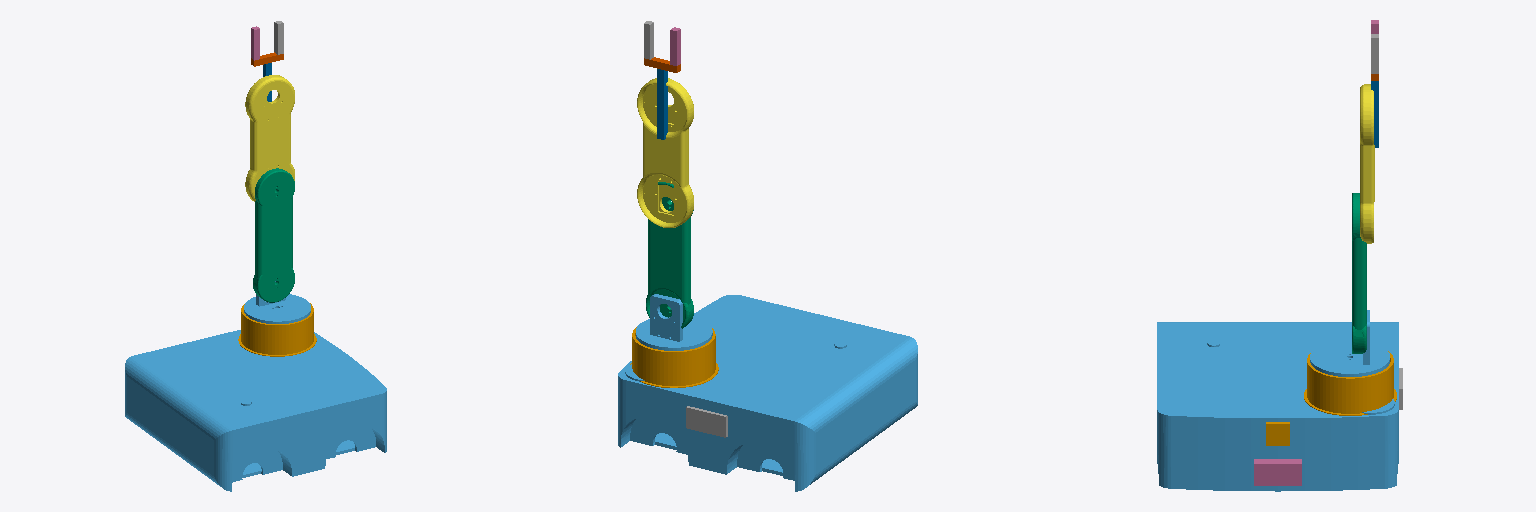
The robot description file, URDF, robot "hexbot":
<?xml version="1.0" encoding="utf-8"?>
<!-- =================================================================================== -->
<!-- |    This document was autogenerated by xacro from bot_urdf.xacro                 | -->
<!-- |    EDITING THIS FILE BY HAND IS NOT RECOMMENDED                                 | -->
<!-- =================================================================================== -->
<robot name="hexbot">
<!-- _________________________________gazebo________________________________ -->
  <gazebo>
  <plugin name="gazebo_ros_control" filename="libgazebo_ros_control.so">
  </plugin>
</gazebo>
  
  <gazebo reference="fwl_joint">
    <mu1 value="10000.0"/>
    <mu2 value="10000.0"/>
    <kp value="100000.0"/>
    <kd value="0.00001"/>
    <maxVel value="1.0"/>
    <minDepth value="0.0001"/>
  </gazebo>
  <gazebo reference="fwr_joint">
    <mu1 value="10000.0"/>
    <mu2 value="10000.0"/>
    <kp value="100000.0"/>
    <kd value="0.00001"/>
    <maxVel value="1.0"/>
    <minDepth value="0.0001"/>
  </gazebo>
  <gazebo reference="bwl_joint">
    <mu1 value="10000.0"/>
    <mu2 value="10000.0"/>
    <kp value="100000.0"/>
    <kd value="0.00001"/>
    <maxVel value="1.0"/>
    <minDepth value="0.0001"/>
  </gazebo>
  <gazebo reference="bwr_joint">
    <mu1 value="10000.0"/>
    <mu2 value="10000.0"/>
    <kp value="100000.0"/>
    <kd value="0.00001"/>
    <maxVel value="1.0"/>
    <minDepth value="0.0001"/>
  </gazebo>

  <gazebo>
    <plugin filename="libgazebo_ros_planar_move.so" name="object_controller">
      <commandTopic>cmd_vel</commandTopic>
      <odometryTopic>odom</odometryTopic>
      <odometryFrame>odom</odometryFrame>
      <odometryRate>20.0</odometryRate>
      <robotBaseFrame>base_footprint</robotBaseFrame>
    </plugin>
  </gazebo>

  <gazebo reference="camera_sensor">
    <sensor name="camera1" type="camera">
      <update_rate>100</update_rate>
      <camera name="head">
        <horizontal_fov>1.3962634</horizontal_fov>
        <image>
          <width>800</width>
          <height>800</height>
          <format>R8G8B8</format>
        </image>
        <clip>
          <near>0.02</near>
          <far>300</far>
        </clip>
        <noise>
          <type>gaussian</type>
          <!-- Noise is sampled independently per pixel on each frame.
               That pixel's noise value is added to each of its color
               channels, which at that point lie in the range [0,1]. -->
          <mean>0.0</mean>
          <stddev>0.007</stddev>
        </noise>
      </camera>
      <plugin filename="libgazebo_ros_camera.so" name="camera_controller">
        <alwaysOn>true</alwaysOn>
        <updateRate>0.0</updateRate>
        <cameraName>hexbot/camera1</cameraName>
        <imageTopicName>image_raw</imageTopicName>
        <cameraInfoTopicName>camera_info</cameraInfoTopicName>
        <frameName>camera_sensor</frameName>
        <hackBaseline>0.07</hackBaseline>
        <distortionK1>0.0</distortionK1>
        <distortionK2>0.0</distortionK2>
        <distortionK3>0.0</distortionK3>
        <distortionT1>0.0</distortionT1>
        <distortionT2>0.0</distortionT2>
      </plugin>
    </sensor>
  </gazebo>

  <gazebo reference="sensor_laser">
    <sensor name="head_hokuyo_sensor" type="ray">
      <pose>0 0 0 0 0 0</pose>
      <visualize>true</visualize>
      <update_rate>20</update_rate>
      <ray>
        <scan>
          <horizontal>
            <samples>720</samples>
            <resolution>1</resolution>
            <min_angle>-1.570796 </min_angle>
            <!-- 180 to 180 degree -->
            <max_angle>1.570796 </max_angle>
          </horizontal>
        </scan>
        <range>
          <min>0.10</min>
          <max>10.0</max>
          <resolution>0.01</resolution>
        </range>
        <noise>
          <type>gaussian</type>
          <mean>0.0</mean>
          <stddev>0.01</stddev>
        </noise>
      </ray>
      <plugin filename="libgazebo_ros_laser.so" name="gazebo_ros_head_hokuyo_controller">
        <topicName>/hexbot/laser/scan</topicName>
        <frameName>sensor_laser</frameName>
      </plugin>
    </sensor>
  </gazebo>
  <!-- this is for visualisation in gazebo -->
  <gazebo reference="link_chassis">
    <material>Gazebo/Orange</material>
  </gazebo>


  <!-- ______________________________arm of the bot ___________________________________________-->

  <link name="base_arm">
    <inertial>
      <origin rpy="0 0 0" xyz="0 0 0"/>
      <mass value="1.0"/>
      <inertia ixx="1.0" ixy="1.0" ixz="1.0" iyy="1.0" iyz="1.0" izz="1.0"/>
    </inertial>
    <collision name="c">
      <origin rpy="0 0 0" xyz="0 0 0"/>
      <geometry>
        <mesh filename="package://hexbot/meshes/base.dae" scale="0.1 0.1 0.1"/>
      </geometry>
    </collision>
    <visual>
      <origin rpy="0 0 0" xyz="0 0 0"/>
      <geometry>
        <mesh filename="package://hexbot/meshes/base.dae" scale="0.1 0.1 0.1"/>
      </geometry>
      <material name="blue"/>
    </visual>
  </link>

  <link name="base_top">
    <pose>0 0 0 0 0 0</pose>
    <inertial>
      <origin rpy="0 0 0" xyz="0 0 0"/>
      <mass value="1.0"/>
      <inertia ixx="1.0" ixy="1.0" ixz="1.0" iyy="1.0" iyz="1.0" izz="1.0"/>
    </inertial>
    <collision name="ca">
      <origin rpy="0 0 0" xyz="0 0 0"/>
      <geometry>
        <mesh filename="package://hexbot/meshes/base_top.dae" scale="0.1 0.1 0.1"/>
      </geometry>
    </collision>
    <visual>
      <origin rpy="0 0 0" xyz="0 0 0"/>
      <geometry>
        <mesh filename="package://hexbot/meshes/base_top.dae" scale="0.1 0.1 0.1"/>
      </geometry>
      <material name="blue"/>
    </visual>
  </link>

  <joint name="joint_base_top" type="continuous">
    <origin rpy="0 0 0" xyz="0 0 0.048"/>
    <parent link="base_arm"/>
    <child link="base_top"/>
    <axis xyz="0 0 0.048"/>
    <limit effort="87" lower="-3.14" upper="3.14" velocity="2.3925"/>
    <calibration falling="0" rising="0"/>
    <dynamics damping="0" friction="0"/>
  </joint>

  <transmission name="joint_base_top_trans">
    <type>transmission_interface/SimpleTransmission</type>
    <joint name="joint_base_top">
      <hardwareInterface>hardware_interface/PositionJointInterface</hardwareInterface>
    </joint>
    <actuator name="motor_joint_base_top">
      <hardwareInterface>hardware_interface/PositionJointInterface</hardwareInterface>
      <mechanicalReduction>1</mechanicalReduction>
    </actuator>
  </transmission>


  <link name="arm_lower">
    <pose>0 0 0 0 0 0</pose>
    <inertial>
      <origin rpy="0 0 0" xyz="0 0 0"/>
      <mass value="1.0"/>
      <inertia ixx="1.0" ixy="1.0" ixz="1.0" iyy="1.0" iyz="1.0" izz="1.0"/>
    </inertial>
    <collision name="ca">
      <origin rpy="0 0 0" xyz="0 0 0"/>
      <geometry>
        <mesh filename="package://hexbot/meshes/lower_arm.dae" scale="0.1 0.1 0.1"/>
      </geometry>
    </collision>
    <visual>
      <origin rpy="0 0 0" xyz="0 0 0"/>
      <geometry>
        <mesh filename="package://hexbot/meshes/lower_arm.dae" scale="0.1 0.1 0.1"/>
      </geometry>
      <material name="blue"/>
    </visual>
  </link>

  <joint name="joint_arm_lower" type="revolute">
    <origin rpy="0 0 0" xyz="0 0.01 0.045"/>
    <parent link="base_top"/>
    <child link="arm_lower"/>
    <axis xyz="0 0.048 0"/>
    <limit effort="87" lower="-1.4" upper="1.7" velocity="2.3925"/>
    <calibration falling="0" rising="0"/>
    <dynamics damping="0" friction="0"/>
  </joint>

  <transmission name="joint_arm_lower_trans">
    <type>transmission_interface/SimpleTransmission</type>
    <joint name="joint_arm_lower">
      <hardwareInterface>hardware_interface/PositionJointInterface</hardwareInterface>
    </joint>
    <actuator name="motor_joint_arm_lower">
      <hardwareInterface>hardware_interface/PositionJointInterface</hardwareInterface>
      <mechanicalReduction>1</mechanicalReduction>
    </actuator>
  </transmission>

  <link name="arm_upper">
    <pose>0 0 0 0 0 0</pose>
    <inertial>
      <origin rpy="0 0 0" xyz="0 0 0"/>
      <mass value="1.0"/>
      <inertia ixx="1.0" ixy="1.0" ixz="1.0" iyy="1.0" iyz="1.0" izz="1.0"/>
    </inertial>
    <collision name="caf">
      <origin rpy="0 0 0" xyz="0 0 0"/>
      <geometry>
        <mesh filename="package://hexbot/meshes/upper_arm.dae" scale="0.1 0.1 0.1"/>
      </geometry>
    </collision>
    <visual>
      <origin rpy="0 0 0" xyz="0 0 0"/>
      <geometry>
        <mesh filename="package://hexbot/meshes/upper_arm.dae" scale="0.1 0.1 0.1"/>
      </geometry>
      <material name="blue"/>
    </visual>
  </link>

  <joint name="joint_arm_upper" type="revolute">
    <origin rpy="0 0 0" xyz="0 0.01 0.15"/>
    <parent link="arm_lower"/>
    <child link="arm_upper"/>
    <axis xyz="0 0.048 0"/>
    <limit effort="87" lower="-2.3" upper="2.3" velocity="2.3925"/>
    <calibration falling="0" rising="0"/>
    <dynamics damping="0" friction="0"/>
  </joint>

  <transmission name="joint_arm_upper_trans">
    <type>transmission_interface/SimpleTransmission</type>
    <joint name="joint_arm_upper">
      <hardwareInterface>hardware_interface/PositionJointInterface</hardwareInterface>
    </joint>
    <actuator name="motor_joint_arm_upper">
      <hardwareInterface>hardware_interface/PositionJointInterface</hardwareInterface>
      <mechanicalReduction>1</mechanicalReduction>
    </actuator>
  </transmission>

  <link name="lastlink">
    <pose>0 0 0 0 0 0</pose>
    <inertial>
      <origin rpy="0 0 0" xyz="0 0 0"/>
      <mass value="1.0"/>
      <inertia ixx="1.0" ixy="1.0" ixz="1.0" iyy="1.0" iyz="1.0" izz="1.0"/>
    </inertial>
    <collision name="caf">
      <origin rpy="0 0 0" xyz="0 0 0"/>
      <geometry>
        <box size="0.01 0.1 0.01"/>
      </geometry>
    </collision>
    <visual>
      <origin rpy="0 0 0" xyz="0 0 0"/>
      <geometry>
        <box size="0.01 0.10 0.01"/>
      </geometry>
      <material name="blue"/>
    </visual>
  </link>

  <joint name="joint_lastlink" type="revolute">
    <origin rpy="1.5707 0 0" xyz="0 0.01 0.15"/>
    <parent link="arm_upper"/>
    <child link="lastlink"/>
    <axis xyz="0 0 -0.05"/>
    <limit effort="87" lower="-2.3" upper="2.3" velocity="2.3925"/>
    <calibration falling="0" rising="0"/>
    <dynamics damping="0" friction="0"/>
  </joint>

  <transmission name="joint_lastlink_trans">
    <type>transmission_interface/SimpleTransmission</type>
    <joint name="joint_lastlink">
      <hardwareInterface>hardware_interface/PositionJointInterface</hardwareInterface>
    </joint>
    <actuator name="motor_joint_lastlink">
      <hardwareInterface>hardware_interface/PositionJointInterface</hardwareInterface>
      <mechanicalReduction>1</mechanicalReduction>
    </actuator>
  </transmission>

  <link name="hand">
    <inertial>
      <origin rpy="0 0 0" xyz="0 0 0"/>
      <mass value="1.0"/>
      <inertia ixx="1.0" ixy="1.0" ixz="1.0" iyy="1.0" iyz="1.0" izz="1.0"/>
    </inertial>
    <visual>
      <origin rpy="0 0 0" xyz="0 0 0"/>
      <geometry>
        <box size="0.05 0.01 0.01"/>
      </geometry>
      <material name="white"/>
    </visual>
    <collision>
      <origin rpy="0 0 0" xyz="0 0 0"/>
      <geometry>
        <box size="0.09 0.01 0.01"/>
      </geometry>
    </collision>
  </link>

  <joint name="hand_toup" type="fixed">
    <origin rpy="0 0 0" xyz="0 0.055 0"/>
    <parent link="lastlink"/>
    <child link="hand"/>
  </joint>

  <link name="fingerleft">
    <inertial>
      <origin rpy="0 0 0" xyz="0 0 0"/>
      <mass value="1.0"/>
      <inertia ixx="1.0" ixy="1.0" ixz="1.0" iyy="1.0" iyz="1.0" izz="1.0"/>
    </inertial>
    <visual>
      <origin rpy="0 0 0" xyz="0 0 0"/>
      <geometry>
        <box size="0.01 0.05 0.01"/>
      </geometry>
      <material name="white"/>
    </visual>
    <collision>
      <origin rpy="0 0 0" xyz="0 0 0"/>
      <geometry>
        <box size="0.01 0.05 0.01"/>
      </geometry>
    </collision>
  </link>
  <joint name="fingerleft_tohand" type="fixed">
    <origin rpy="0 0 0" xyz="-0.02 0.03 0"/>
    <parent link="hand"/>
    <child link="fingerleft"/>
  </joint>
<!--
  <joint name="fingerleft_tohand" type="prismatic">
    <origin rpy="0 0 0" xyz="-0.02 0.03 0"/>
    <parent link="hand"/>
    <child link="fingerleft"/>
    <limit effort="20" lower="0.0" upper="0.04" velocity="0.2"/>
    <calibration falling="0" rising="0"/>
    <dynamics damping="0" friction="0"/>
  </joint>

  <transmission name="fingerleft_tohand_trans">
    <type>transmission_interface/SimpleTransmission</type>
    <joint name="fingerleft_tohand">
      <hardwareInterface>hardware_interface/PositionJointInterface</hardwareInterface>
    </joint>
    <actuator name="motor_fingerleft_tohand">
      <hardwareInterface>hardware_interface/PositionJointInterface</hardwareInterface>
      <mechanicalReduction>1</mechanicalReduction>
    </actuator>
  </transmission> -->

  <link name="fingerright">
    <inertial>
      <origin rpy="0 0 0" xyz="0 0 0"/>
      <mass value="1.0"/>
      <inertia ixx="1.0" ixy="1.0" ixz="1.0" iyy="1.0" iyz="1.0" izz="1.0"/>
    </inertial>
    <visual>
      <origin rpy="0 0 0" xyz="0 0 0"/>
      <geometry>
        <box size="0.01 0.05 0.01"/>
      </geometry>
      <material name="white"/>
    </visual>
    <collision>
      <origin rpy="0 0 0" xyz="0 0 0"/>
      <geometry>
        <box size="0.01 0.05 0.01"/>
      </geometry>
    </collision>
  </link>
  <joint name="fingerright_tohand" type="fixed">
    <origin rpy="0 0 0" xyz="0.02 0.03 0"/>
    <parent link="hand"/>
    <child link="fingerright"/>
  </joint>
<!--
  <joint name="fingerright_tohand" type="prismatic">
    <origin rpy="0 0 0" xyz="0.02 0.03 0"/>
    <parent link="hand"/>
    <child link="fingerright"/>
    <limit effort="20" lower="-0.04" upper="0" velocity="0.2"/>
    <calibration falling="0" rising="0"/>
    <dynamics damping="0" friction="0"/>
  </joint>

  <transmission name="fingerright_tohand_trans">
    <type>transmission_interface/SimpleTransmission</type>
    <joint name="fingerright_tohand">
      <hardwareInterface>hardware_interface/PositionJointInterface</hardwareInterface>
    </joint>
    <actuator name="motor_fingerright_tohand">
      <hardwareInterface>hardware_interface/PositionJointInterface</hardwareInterface>
      <mechanicalReduction>1</mechanicalReduction>
    </actuator>
  </transmission>
-->
  <link name="base_footprint">
    <visual>
      <origin rpy="0 0 0" xyz="0 0 0"/>
      <geometry>
        <box size="0.001 0.001 0.001"/>
      </geometry>
    </visual>
  </link>
  <joint name="base_link_joint" type="fixed">
    <origin rpy="0 0 0" xyz="0.0 0 0"/>
    <parent link="base_footprint"/>
    <child link="link_chassis"/>
  </joint>
  <!-- _____________________________________________________________body of the bot___________________________________________ -->
  <link name="link_chassis">
    <pose>0 0 0 0 0 0</pose>
    <inertial>
      <mass value="5"/>
      <origin rpy="0 0 0" xyz="0 0 0.1"/>
      <inertia ixx="0.0395416666667" ixy="0" ixz="0" iyy="0.106208333333" iyz="0" izz="0.106208333333"/>
    </inertial>
    <collision name="collision_chassis">
      <origin rpy="0 0 0" xyz="0 0 0.1"/>
      <geometry>
        <mesh filename="package://hexbot/meshes/bot_body_new.dae" scale="0.01 0.01 0.01"/>
      </geometry>
    </collision>
    <visual>
      <origin rpy="0 0 0" xyz="0 0 0.1"/>
      <geometry>
        <mesh filename="package://hexbot/meshes/bot_body_new.dae" scale="0.01 0.01 0.01"/>
      </geometry>
      <material name="blue"/>
    </visual>
  </link>

  <link name="fwl">
    <inertial>
      <mass value="0.2"/>
      <origin rpy="0 0 0" xyz="0 0 0"/>
      <inertia ixx="0.000526666666667" ixy="0" ixz="0" iyy="0.000526666666667" iyz="0" izz="0.001"/>
    </inertial>
    <collision name="fwl_collision">
      <origin rpy="0 0 0" xyz="0 0 0"/>
      <geometry>
        <mesh filename="package://hexbot/meshes/wheel.dae" scale="0.1 0.1 0.1"/>
      </geometry>
    </collision>
    <visual name="fwl_visual">
      <origin rpy="0 0 0" xyz="0 0 0"/>
      <geometry>
        <mesh filename="package://hexbot/meshes/wheel.dae" scale="0.1 0.1 0.1"/>
      </geometry>
    </visual>
  </link>
  <joint name="fwl_joint" type="fixed">
    <origin rpy="0 0 0" xyz="0.08 0.15 0"/>
    <parent link="link_chassis"/>
    <child link="fwl"/>
    <axis xyz="0 0.05 0"/>
  </joint>


  <link name="fwr">
    <inertial>
      <mass value="0.2"/>
      <origin rpy="0 0 0" xyz="0 0 0"/>
      <inertia ixx="0.000526666666667" ixy="0" ixz="0" iyy="0.000526666666667" iyz="0" izz="0.001"/>
    </inertial>
    <collision name="fwr_collision">
      <origin rpy="0 0 0" xyz="0 0 0"/>
      <geometry>
        <mesh filename="package://hexbot/meshes/wheel.dae" scale="0.1 0.1 0.1"/>
      </geometry>
    </collision>
    <visual name="fwr_visual">
      <origin rpy="0 0 0" xyz="0 0 0"/>
      <geometry>
        <mesh filename="package://hexbot/meshes/wheel.dae" scale="0.1 0.1 0.1"/>
      </geometry>
    </visual>
  </link>
  <joint name="fwr_joint" type="fixed">
    <origin rpy="0 0 0" xyz="0.08 -0.15 0"/>
    <parent link="link_chassis"/>
    <child link="fwr"/>
    <axis xyz="0 0.05 0"/>
  </joint>


  <link name="bwl">
    <inertial>
      <mass value="0.2"/>
      <origin rpy="0 0 0" xyz="0 0 0"/>
      <inertia ixx="0.000526666666667" ixy="0" ixz="0" iyy="0.000526666666667" iyz="0" izz="0.001"/>
    </inertial>
    <collision name="bwl_collision">
      <origin rpy="0 0 0" xyz="0 0 0"/>
      <geometry>
        <mesh filename="package://hexbot/meshes/wheel.dae" scale="0.1 0.1 0.1"/>
      </geometry>
    </collision>
    <visual name="bwl_visual">
      <origin rpy="0 0 0" xyz="0 0 0"/>
      <geometry>
        <mesh filename="package://hexbot/meshes/wheel.dae" scale="0.1 0.1 0.1"/>
      </geometry>
    </visual>
  </link>
  <joint name="bwl_joint" type="fixed">
    <origin rpy="0 0 0" xyz="-0.08 0.15 0"/>
    <parent link="link_chassis"/>
    <child link="bwl"/>
    <axis xyz="0 0.05 0"/>
  </joint>


  <link name="bwr">
    <inertial>
      <mass value="0.2"/>
      <origin rpy="0 0 0" xyz="0 0 0"/>
      <inertia ixx="0.000526666666667" ixy="0" ixz="0" iyy="0.000526666666667" iyz="0" izz="0.001"/>
    </inertial>
    <collision name="bwr_collision">
      <origin rpy="0 0 0" xyz="0 0 0"/>
      <geometry>
        <mesh filename="package://hexbot/meshes/wheel.dae" scale="0.1 0.1 0.1"/>
      </geometry>
    </collision>
    <visual name="bwr_visual">
      <origin rpy="0 0 0" xyz="0 0 0"/>
      <geometry>
        <mesh filename="package://hexbot/meshes/wheel.dae" scale="0.1 0.1 0.1"/>
      </geometry>
    </visual>
  </link>
  <joint name="bwr_joint" type="fixed">
    <origin rpy="0 0 0" xyz="-0.08 -0.15 0"/>
    <parent link="link_chassis"/>
    <child link="bwr"/>
    <axis xyz="0 0.05 0"/>
  </joint>

  <joint name="arm_base_to_chassis" type="fixed">
    <origin rpy="0 0 0" xyz="0.0850 0.09 0.15"/>
    <parent link="link_chassis"/>
    <child link="base_arm"/>
  </joint>

  <!-- laser_sensor -->
  <link name="sensor_laser">
    <inertial>
      <origin rpy="0 0 0" xyz="0 0 0"/>
      <mass value="1"/>
      <inertia ixx="0.0010417" ixy="0" ixz="0" iyy="0.00028333" iyz="0" izz="0.0009083"/>
    </inertial>
    <visual>
      <origin rpy="0 0 0" xyz="0 0 0"/>
      <geometry>
        <box size="0.03 0.06 0.03"/>
      </geometry>
      <material name="white"/>
    </visual>
    <collision>
      <origin rpy="0 0 0" xyz="0 0 0"/>
      <geometry>
        <box size="0.01 0.06 0.03"/>
      </geometry>
    </collision>
  </link>

  <joint name="joint_sensor_laser" type="fixed">
    <origin rpy="0 0 0" xyz="0.15 0 0.08"/>
    <parent link="link_chassis"/>
    <child link="sensor_laser"/>
  </joint>

  <link name="sensor_laser_left">
    <inertial>
      <origin rpy="0 0 0" xyz="0 0 0"/>
      <mass value="1"/>
      <inertia ixx="0.0010417" ixy="0" ixz="0" iyy="0.00028333" iyz="0" izz="0.0009083"/>
    </inertial>
    <visual>
      <origin rpy="0 0 0" xyz="0 0 0"/>
      <geometry>
        <box size="0.01 0.06 0.03"/>
      </geometry>
      <material name="white"/>
    </visual>
    <collision>
      <origin rpy="0 0 0" xyz="0 0 0"/>
      <geometry>
        <box size="0.01 0.06 0.03"/>
      </geometry>
    </collision>
  </link>

  <joint name="left_sensor_joint" type="fixed">
    <origin rpy="0 0 1.5707" xyz="0 0.15 0.12"/>
    <parent link="link_chassis"/>
    <child link="sensor_laser_left"/>
  </joint>

  <!-- camera -->
  <link name="camera_sensor">
    <inertial>
      <origin rpy="0 0 0" xyz="0 0 0"/>
      <mass value="1"/>
      <inertia ixx="0.0010417" ixy="0" ixz="0" iyy="0.00028333" iyz="0" izz="0.0009083"/>
    </inertial>
    <visual>
      <origin rpy="0 0 0" xyz="0 0 0"/>
      <geometry>
        <box size="0.01 0.03 0.03"/>
      </geometry>
      <material name="white"/>
    </visual>
    <collision>
      <origin rpy="0 0 0" xyz="0 0 0"/>
      <geometry>
        <box size="0.01 0.06 0.03"/>
      </geometry>
    </collision>
  </link>

  <joint name="joint_camera_sensor" type="fixed">
    <origin rpy="0 0 0" xyz="0.15 0 0.13"/>
    <parent link="link_chassis"/>
    <child link="camera_sensor"/>
  </joint>

</robot>

--- Render facts (derived) ---
The picture shows the robot from 3 angles, left to right: view 1: azimuth 30°, elevation 25°; view 2: azimuth 150°, elevation 25°; view 3: azimuth 270°, elevation 25°; orthographic projection.
Robot: hexbot — 17 links, 16 joints (3 revolute, 1 continuous, 12 fixed); root link base_footprint; default pose: all joints at 0.
Links seen in each view (by area): view 1: link_chassis, arm_lower, arm_upper, base_arm, base_top; view 2: link_chassis, arm_upper, arm_lower, base_arm, base_top, sensor_laser_left, lastlink; view 3: link_chassis, base_arm, base_top, arm_upper, arm_lower, sensor_laser, camera_sensor.
Link boxes in pixels (left/top/right/bottom): link_chassis: left=125, top=330, right=386, bottom=491; arm_lower: left=253, top=168, right=294, bottom=302; arm_upper: left=245, top=75, right=294, bottom=201; base_arm: left=238, top=303, right=316, bottom=356; base_top: left=244, top=281, right=310, bottom=323; link_chassis: left=618, top=295, right=917, bottom=491; arm_upper: left=637, top=78, right=693, bottom=227; arm_lower: left=646, top=182, right=693, bottom=328; base_arm: left=630, top=327, right=718, bottom=387; base_top: left=636, top=294, right=712, bottom=350; sensor_laser_left: left=686, top=406, right=727, bottom=437; lastlink: left=657, top=69, right=667, bottom=139; link_chassis: left=1157, top=322, right=1398, bottom=491; base_arm: left=1304, top=351, right=1396, bottom=415; base_top: left=1310, top=310, right=1389, bottom=376; arm_upper: left=1360, top=84, right=1374, bottom=243; arm_lower: left=1352, top=193, right=1366, bottom=353; sensor_laser: left=1254, top=459, right=1301, bottom=485; camera_sensor: left=1266, top=422, right=1289, bottom=445.
Size in the robot's own frame: 0.315 by 0.305 by 0.6535 metres.
Meshes: 6 distinct files referenced, 5 mesh visuals loaded (5 Collada DAE); not drawn: 4 (reference not matched to a file when rendering).
